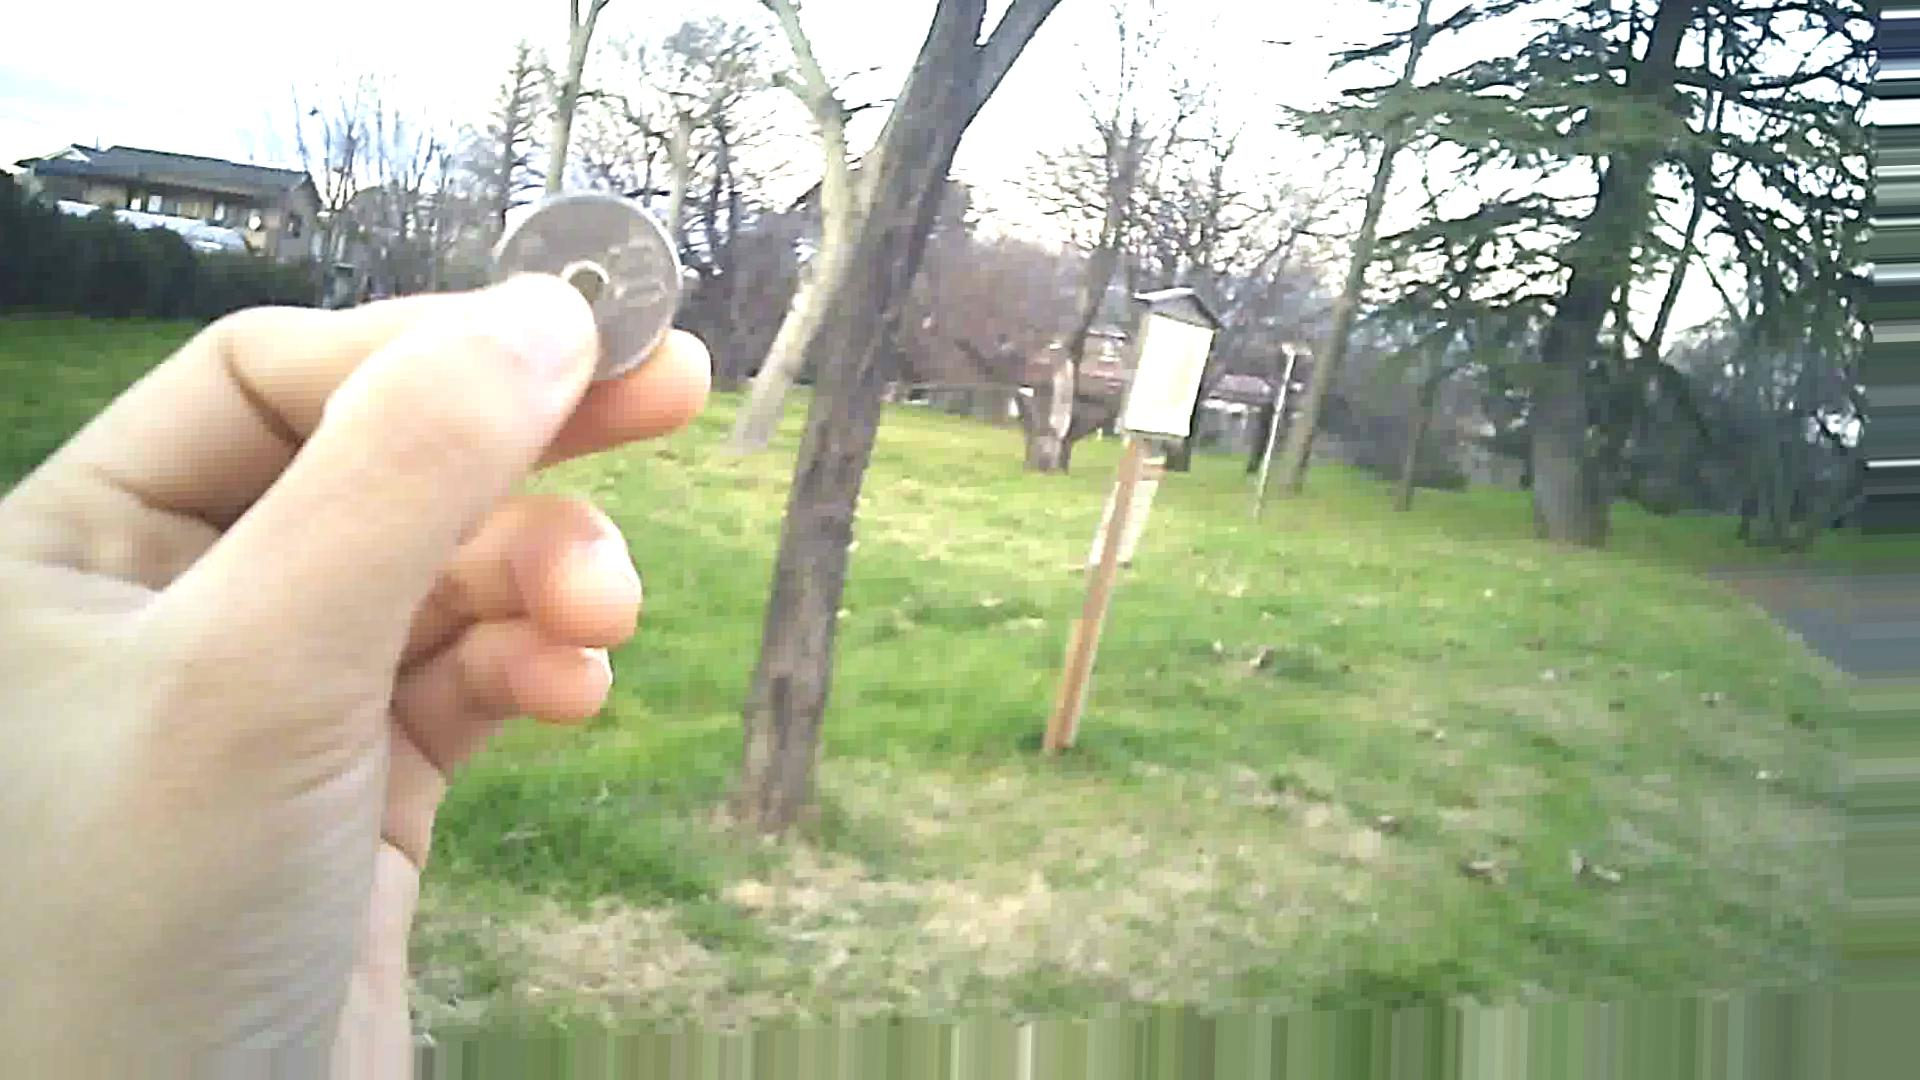50 Yen: (451, 189, 709, 392)
